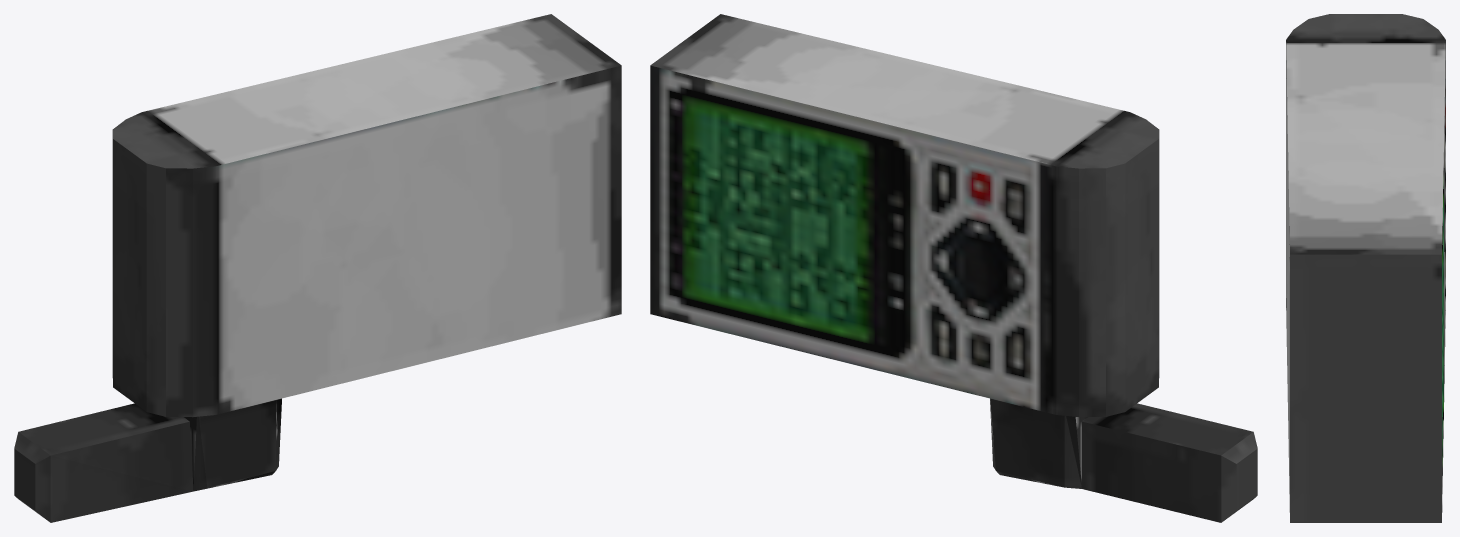
The model's file is GPS_G48.fbx.
The picture shows the model from 3 angles, left to right: view 1: azimuth 30°, elevation 25°; view 2: azimuth 150°, elevation 25°; view 3: azimuth 270°, elevation 25°; orthographic projection. The views are drawn at different scales.
Visible parts, largest first — view 1: untitled.001; view 2: untitled.001; view 3: untitled.001.
Boxes of the visible parts, <box> form: untitled.001: <box>14,14,621,522</box>; untitled.001: <box>650,14,1257,522</box>; untitled.001: <box>1286,14,1445,522</box>.
Bounding box in the file's own units: 17.34 × 10.05 × 3.96.
1 material, 1 textured.
